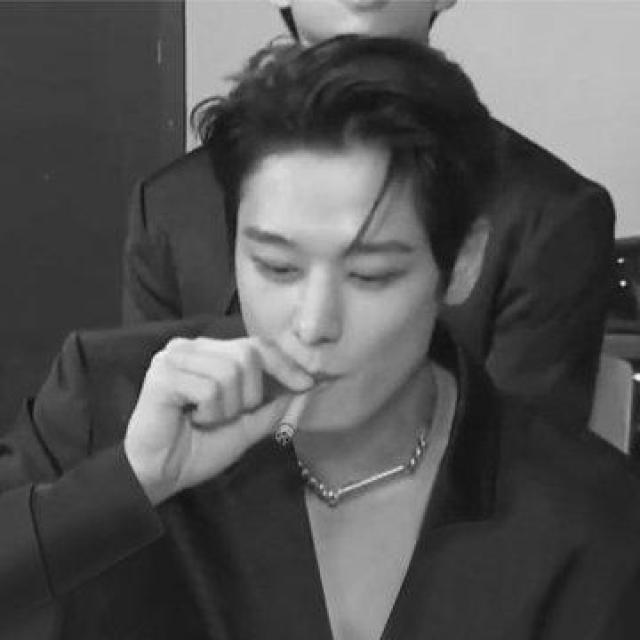rokok: (268, 376, 326, 452)
